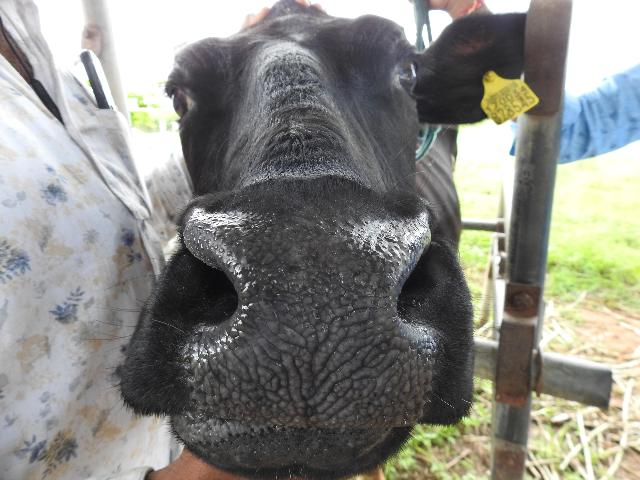Muzzle: (205, 211, 412, 437)
